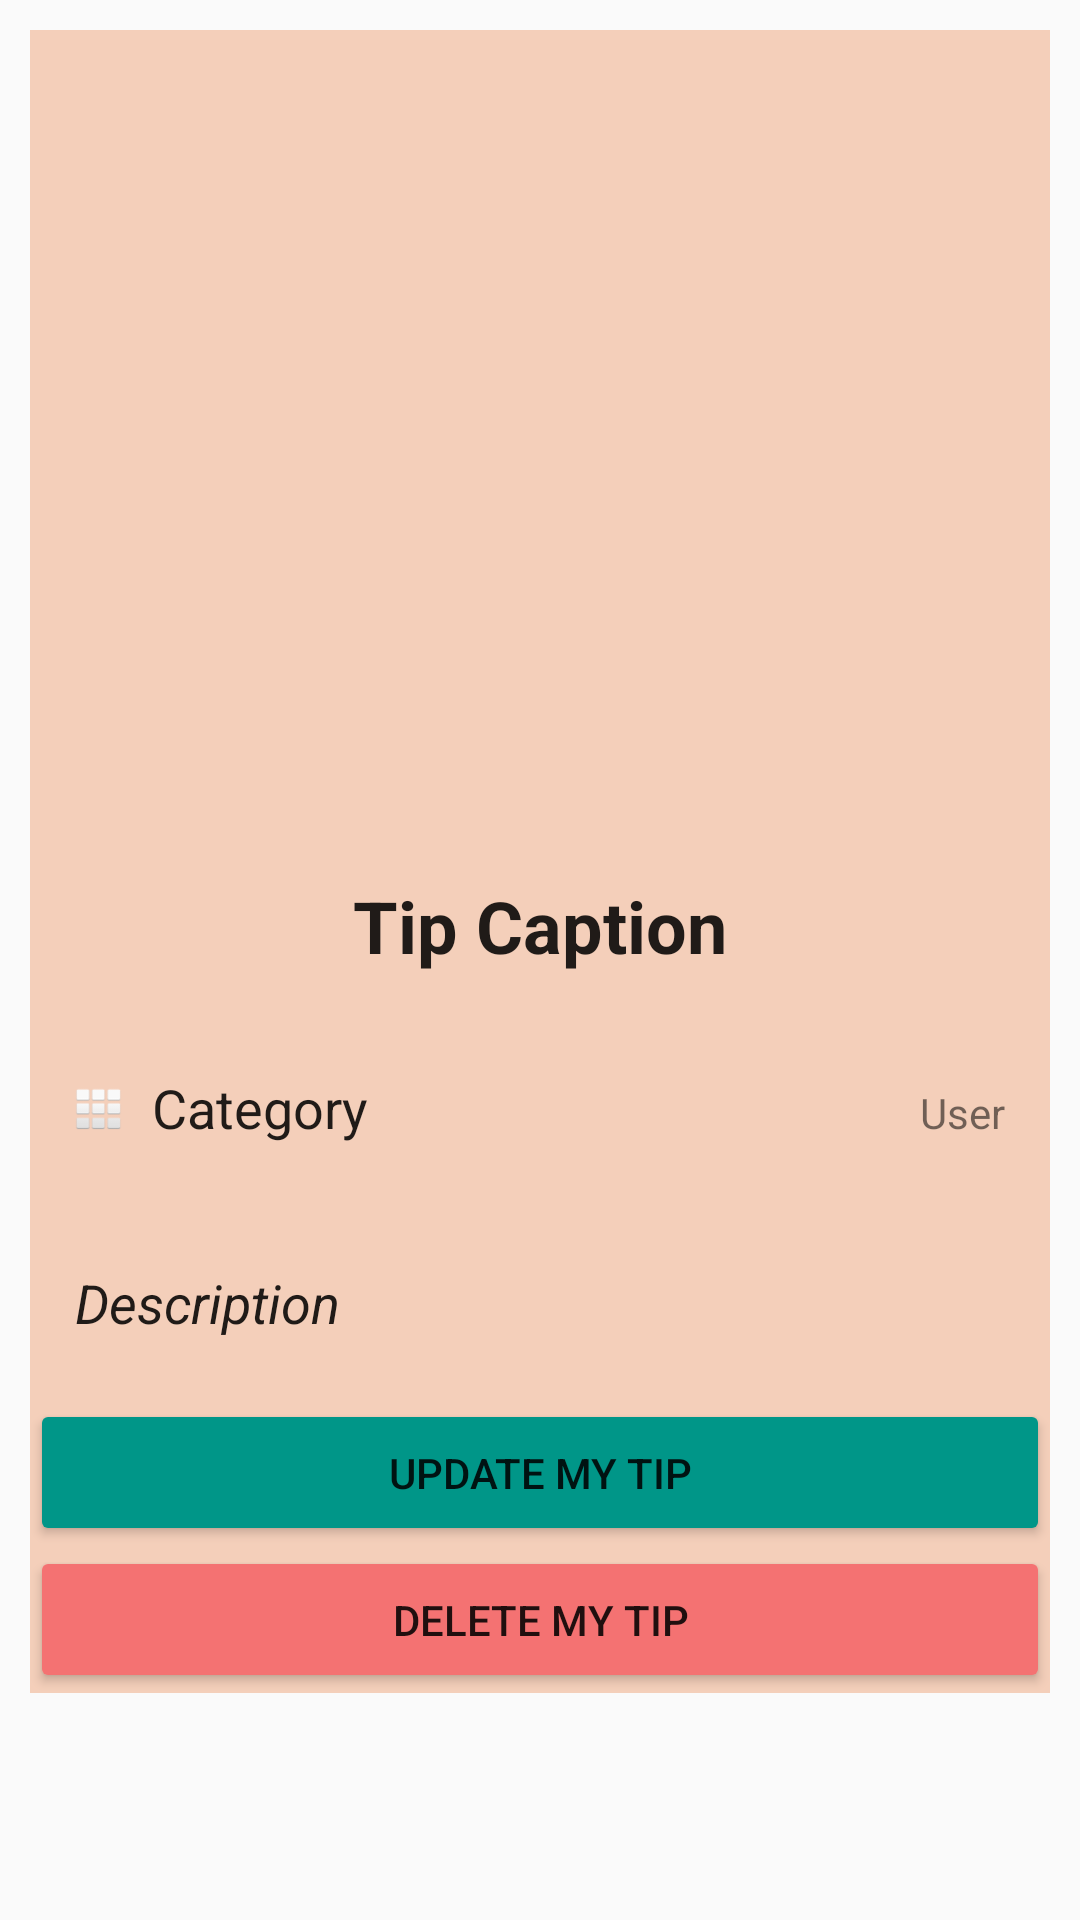

Icons on this 1080×1920 Android screen, each with its box as BBox(x1, y1, x2, y2):
dialer: BBox(76, 1089, 120, 1129)
